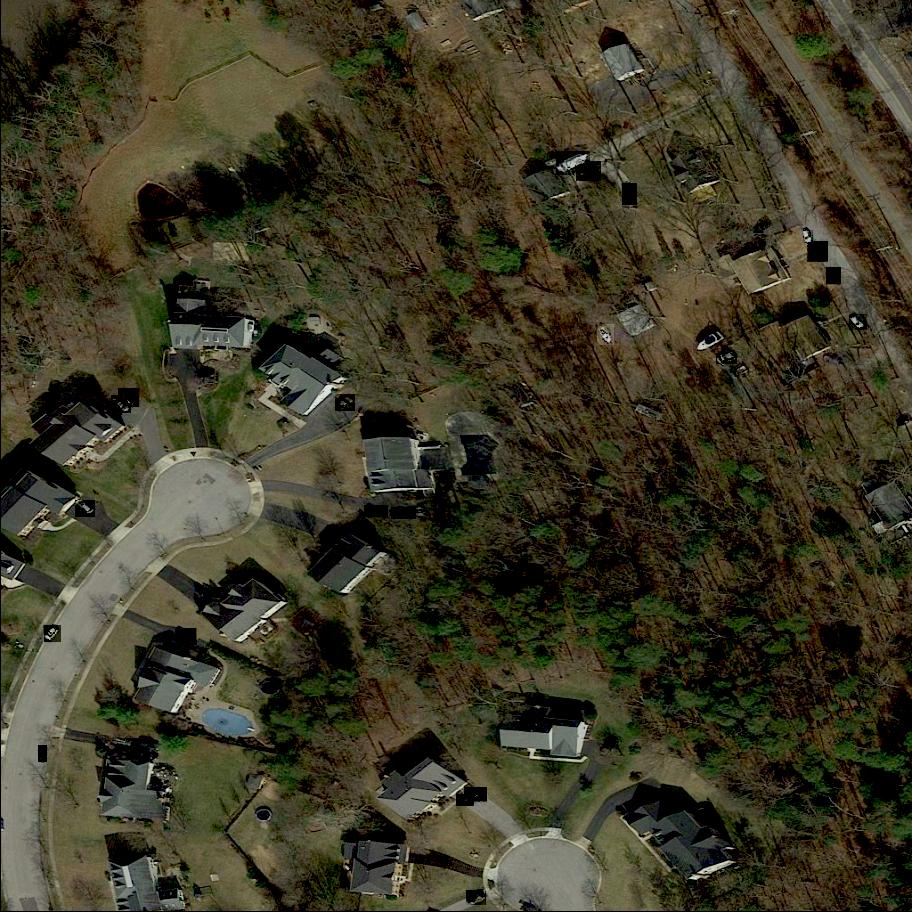ship: (693, 329, 727, 356), (557, 151, 592, 177), (598, 324, 615, 347)
small-vehicle: (576, 162, 601, 182), (808, 242, 829, 263), (119, 389, 141, 409), (335, 394, 357, 413), (112, 395, 132, 415), (75, 500, 95, 520), (175, 628, 197, 646), (622, 183, 638, 206), (169, 637, 189, 655), (464, 787, 487, 802), (44, 625, 62, 644), (850, 313, 867, 332), (466, 891, 487, 906), (826, 267, 841, 287), (365, 506, 389, 518), (392, 508, 415, 519), (456, 793, 474, 807), (717, 353, 737, 365), (38, 746, 47, 762), (804, 231, 813, 244)
